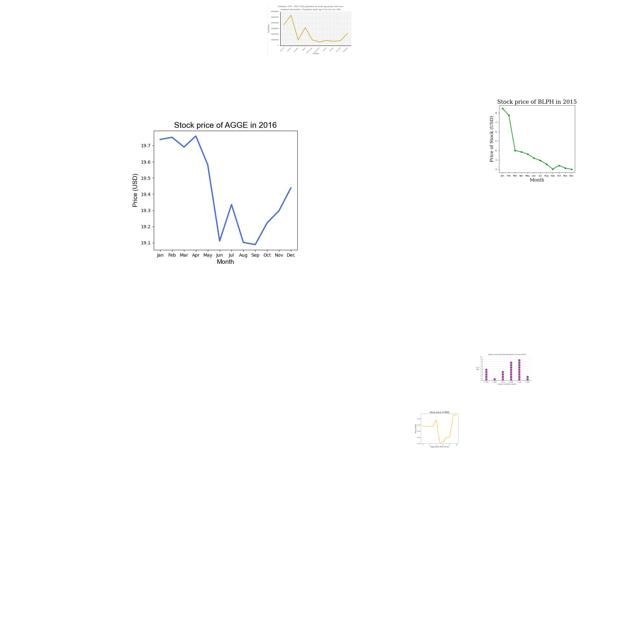Graph: (120, 112, 326, 267), (472, 95, 599, 182), (267, 4, 353, 55), (413, 409, 465, 448), (474, 353, 533, 386)
